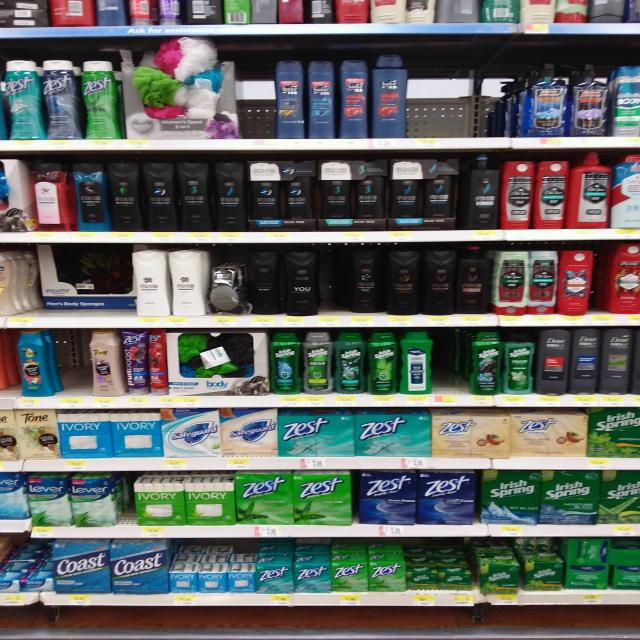void: (456, 36, 498, 149), (412, 41, 452, 150), (240, 36, 274, 152), (54, 330, 91, 409), (435, 329, 470, 406)
